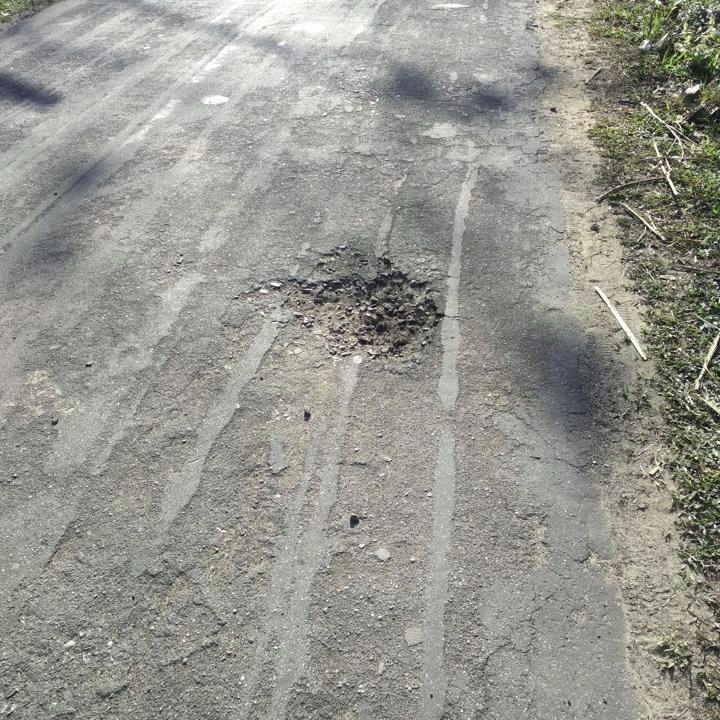pothole: (253, 247, 442, 365)
